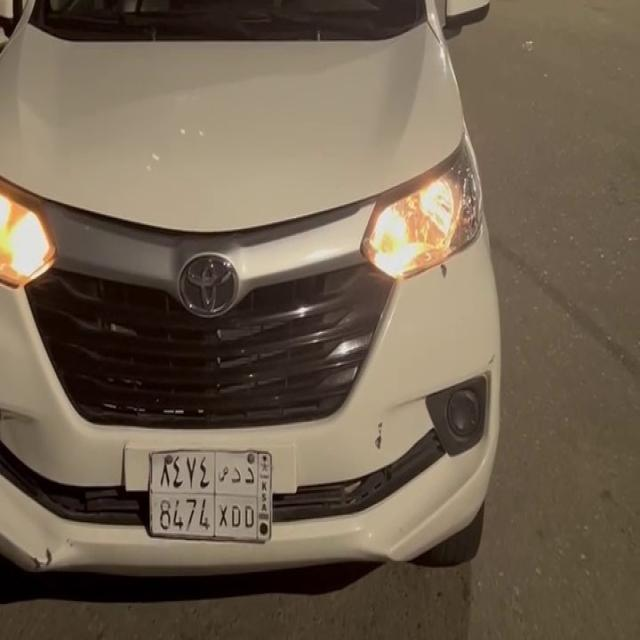Car-plate: (141, 434, 274, 546)
